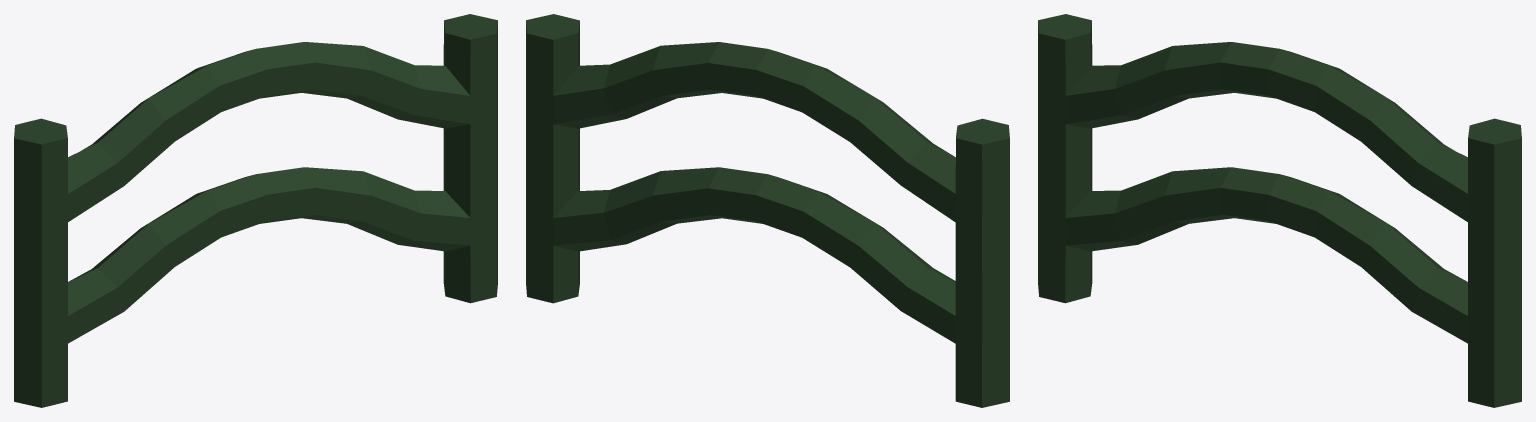
Rendered from Fence.fbx.
3 renders of one model, left to right at view 1: azimuth 30°, elevation 25°; view 2: azimuth 150°, elevation 25°; view 3: azimuth 330°, elevation 25°, orthographic.
Parts seen in each view (by area): view 1: Fence; view 2: Fence; view 3: Fence.
Boxes of the visible parts, x1,y1,x2,y2 form: Fence: (14,14,497,407); Fence: (526,14,1009,407); Fence: (1038,14,1521,407).
Size of the model in its own units: 441 by 256 by 42.42.
